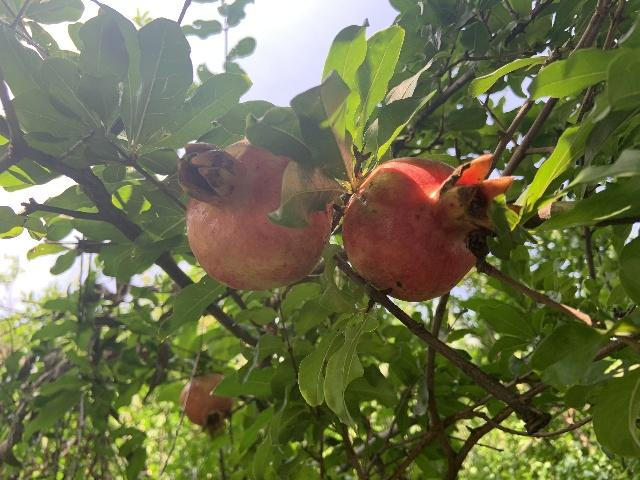ripe: (342, 153, 517, 302), (179, 139, 334, 290), (180, 373, 234, 439)
